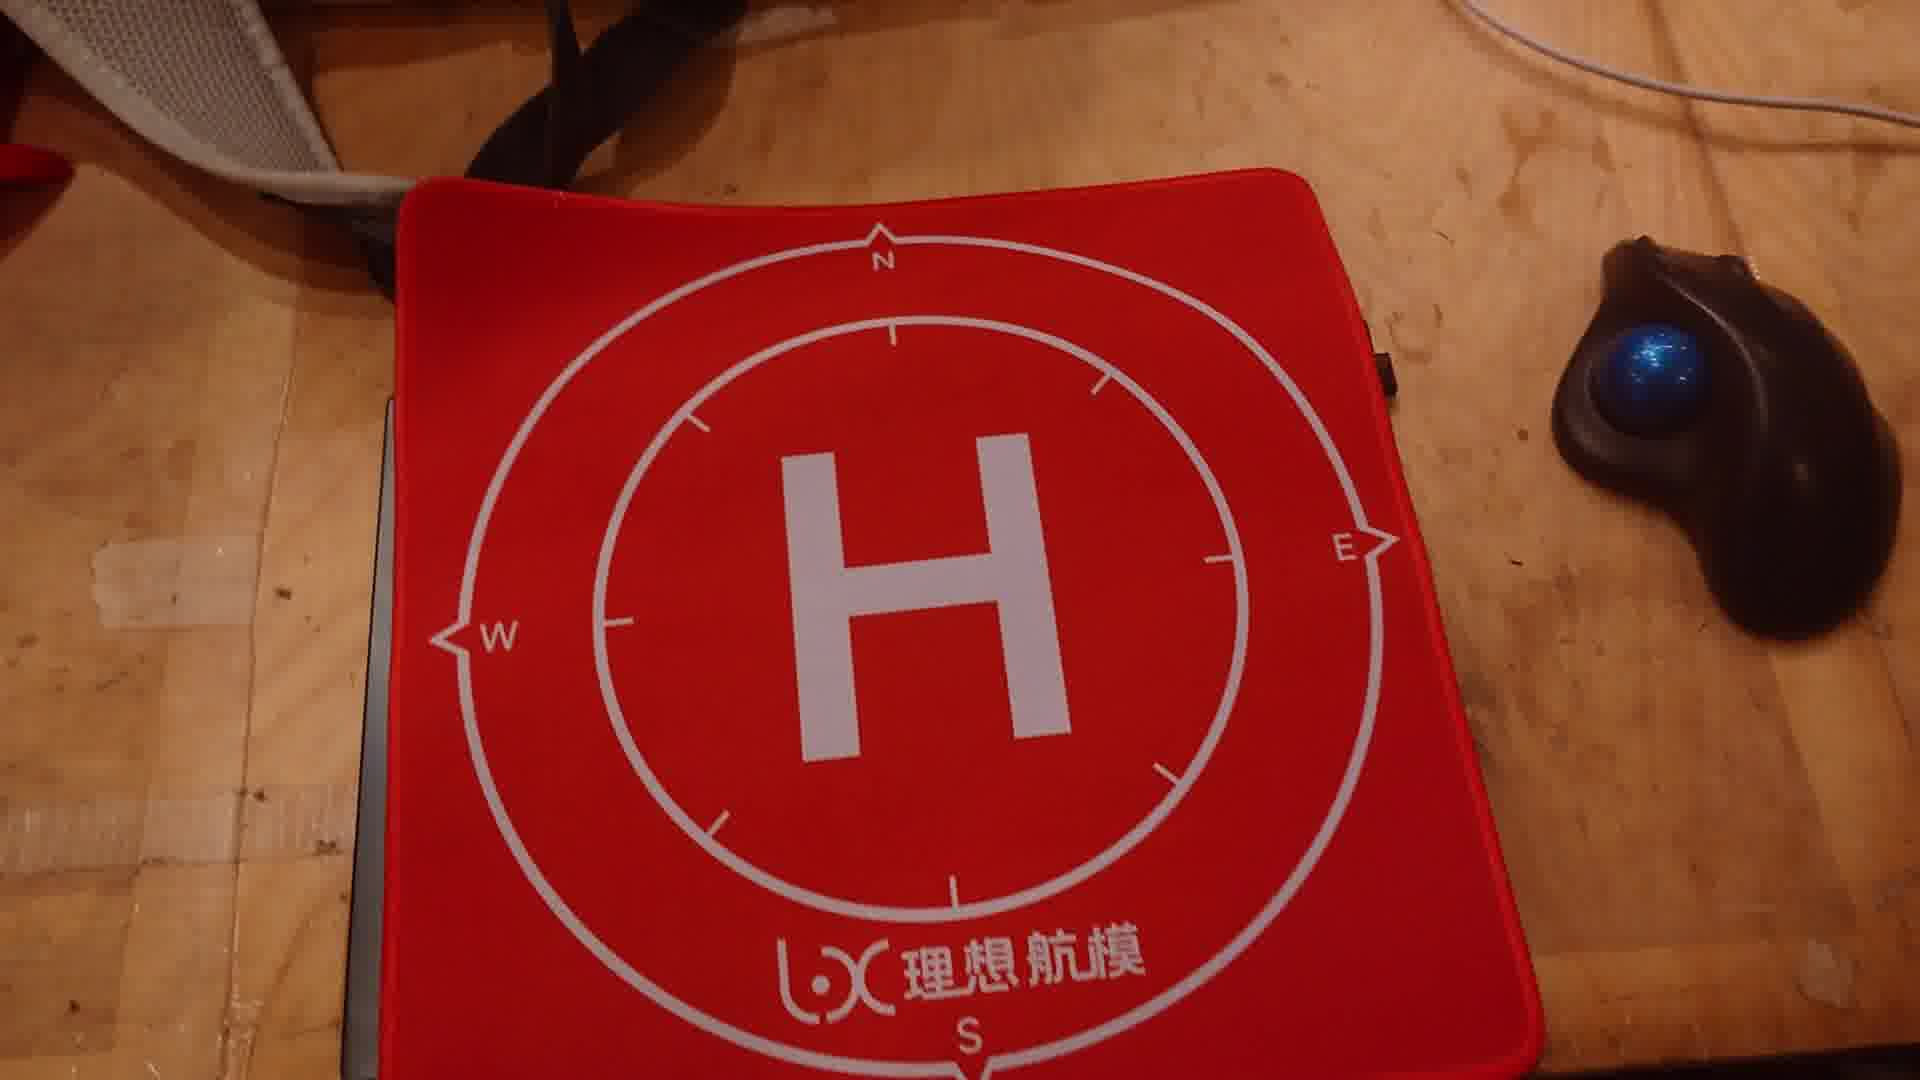H: (781, 430, 1076, 766)
